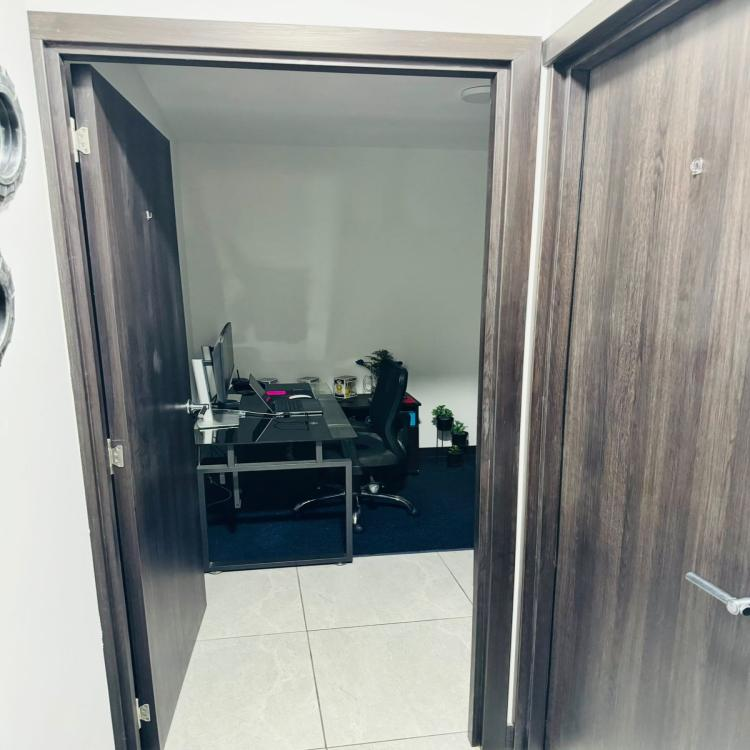ClosedDoor: (534, 11, 749, 750)
OpenDoor: (38, 35, 489, 750)
